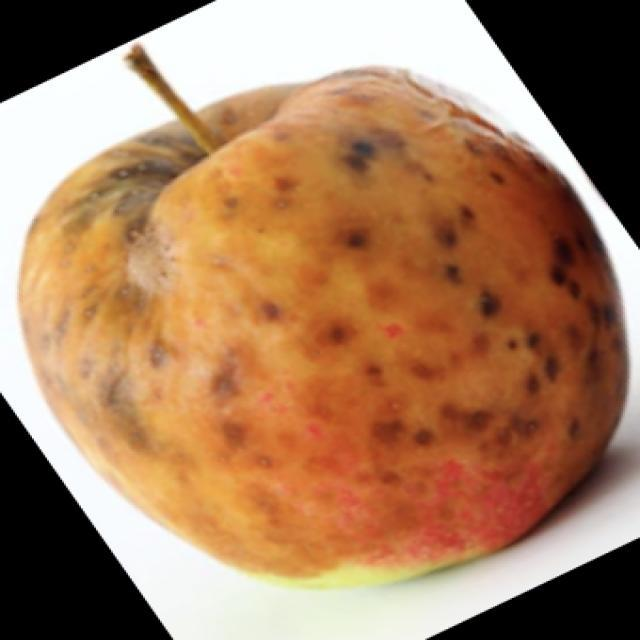Rotten: (30, 60, 617, 577)
